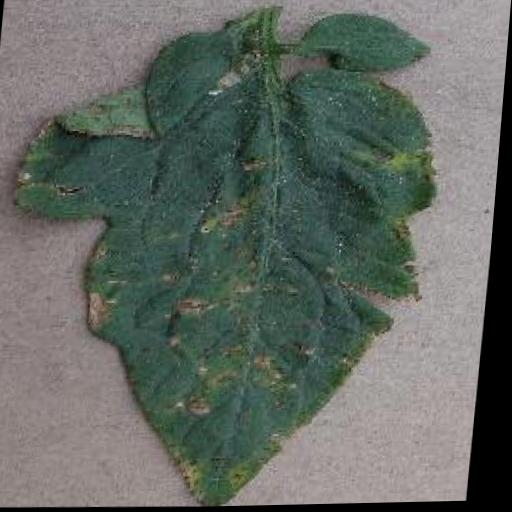Bacterial Spot: (0, 0, 462, 512)
